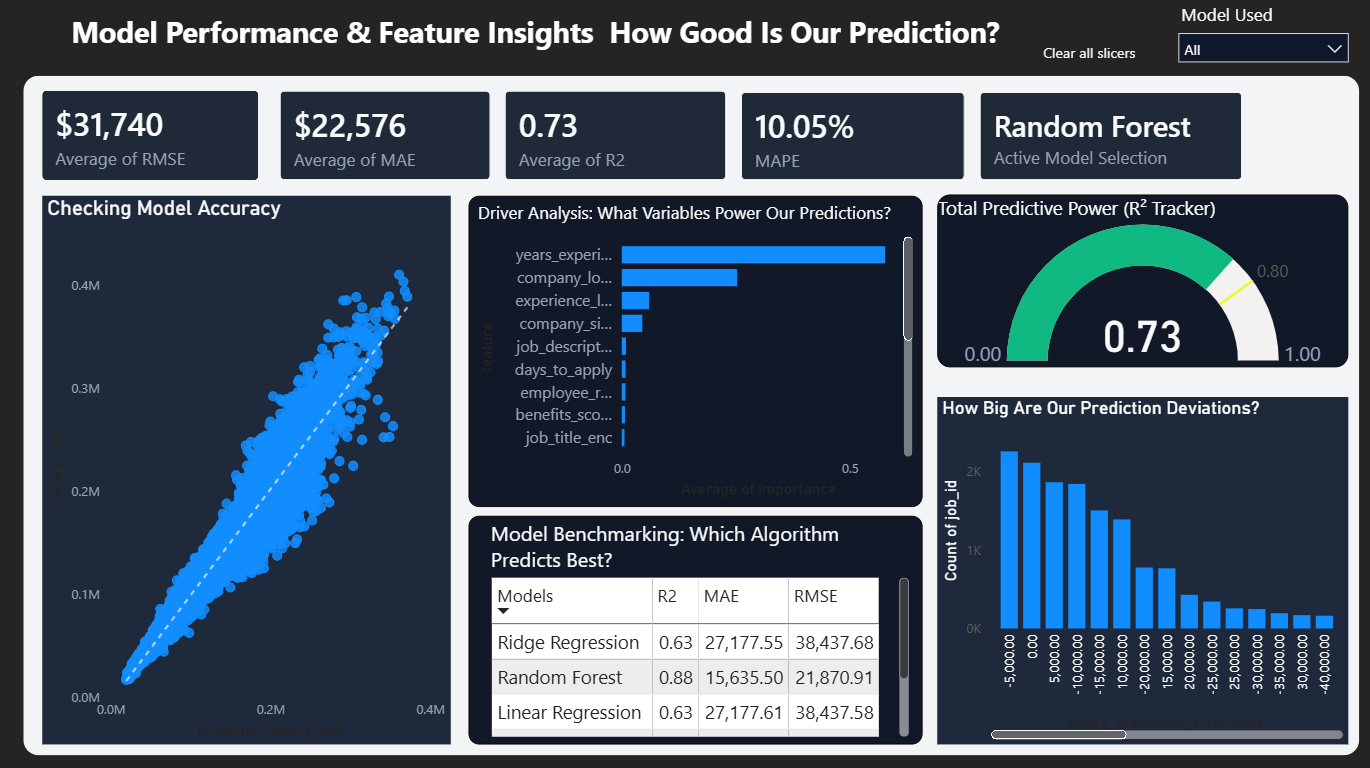

This screenshot's page, from the dashboard's own definition file:
{"tool":"powerbi","page":{"name":"Model Performance & Feature Insights","canvas":[1280,720],"ordinal":4},"visuals":[{"type":"shape","box":[25.4,73.6,1242.2,631.9],"z":0},{"type":"textbox","box":[20.5,9,1238.9,64.2],"z":1000},{"type":"tableEx","title":"Model Benchmarking: Which Algorithm Predicts Best?","fields":{"Values":["model_performance_summary.Column1","model_performance_summary.R2","model_performance_summary.MAE","model_performance_summary.RMSE"]},"box":[439.5,482.6,422.1,212.8],"z":2000},{"type":"clusteredBarChart","title":"Driver Analysis: What Variables Power Our Predictions?","fields":{"Category":["feature_importance.feature"],"Y":["Avg(feature_importance.importance)"]},"box":[439.1,184.6,422.3,289.5],"z":3000},{"type":"gauge","title":"Total Predictive Power (R² Tracker)","fields":{"Y":["Avg(model_performance_summary.R2)"]},"box":[875.6,184.2,382.7,160.8],"z":4000},{"type":"cardVisual","fields":{"Data":["Avg(model_performance_summary.RMSE)"]},"box":[43.4,86.9,201.5,83.2],"z":5000},{"type":"slicer","fields":{"Values":["model_performance_summary.Column1"]},"box":[1089.4,0,178.6,73.6],"z":6000},{"type":"cardVisual","fields":{"Data":["Avg(model_performance_summary.R2)"]},"box":[472.9,86.9,206.3,83.2],"z":7000},{"type":"cardVisual","fields":{"Data":["Avg(model_performance_summary.MAE)"]},"box":[264.2,86.9,196.6,83.2],"z":8000},{"type":"scatterChart","title":"Checking Model Accuracy","fields":{"Y":["ai_jobs_predictions_final.salary_usd"],"X":["ai_jobs_predictions_final.predicted_salary_usd"]},"box":[43.4,184.6,380,510.3],"z":9000},{"type":"cardVisual","fields":{"Data":["measures (2).Active Model Selection"]},"box":[915.7,88.1,244.9,82],"z":10000},{"type":"cardVisual","fields":{"Data":["measures (2).MAPE"]},"box":[692.5,88.1,208.7,82],"z":11000},{"type":"clusteredColumnChart","title":"How Big Are Our Prediction Deviations?","fields":{"Y":["CountNonNull(ai_jobs_predictions_final.job_id)"],"Category":["ai_jobs_predictions_final.salary_prediction_error (bins)"]},"box":[875.9,371.6,382.4,323.3],"z":12000},{"type":"actionButton","box":[945.8,37.4,143.6,29],"z":13000}]}

Visuals, with their boxes in screenshot pixels (x1, y1, x2, y2), scaled from the page's 1280x720 canvas onto the 1370x768 screenshot:
shape: {"x1": 27, "y1": 79, "x2": 1357, "y2": 753}
textbox: {"x1": 22, "y1": 10, "x2": 1348, "y2": 78}
"Model Benchmarking: Which Algorithm Predicts Best?" tableEx: {"x1": 470, "y1": 515, "x2": 922, "y2": 742}
"Driver Analysis: What Variables Power Our Predictions?" clusteredBarChart: {"x1": 470, "y1": 197, "x2": 922, "y2": 506}
"Total Predictive Power (R² Tracker)" gauge: {"x1": 937, "y1": 196, "x2": 1347, "y2": 368}
cardVisual - Avg(model_performance_summary.RMSE): {"x1": 46, "y1": 93, "x2": 262, "y2": 181}
slicer - model_performance_summary.Column1: {"x1": 1166, "y1": 0, "x2": 1357, "y2": 79}
cardVisual - Avg(model_performance_summary.R2): {"x1": 506, "y1": 93, "x2": 727, "y2": 181}
cardVisual - Avg(model_performance_summary.MAE): {"x1": 283, "y1": 93, "x2": 493, "y2": 181}
"Checking Model Accuracy" scatterChart: {"x1": 46, "y1": 197, "x2": 453, "y2": 741}
cardVisual - measures (2).Active Model Selection: {"x1": 980, "y1": 94, "x2": 1242, "y2": 181}
cardVisual - measures (2).MAPE: {"x1": 741, "y1": 94, "x2": 965, "y2": 181}
"How Big Are Our Prediction Deviations?" clusteredColumnChart: {"x1": 937, "y1": 396, "x2": 1347, "y2": 741}
actionButton: {"x1": 1012, "y1": 40, "x2": 1166, "y2": 71}
